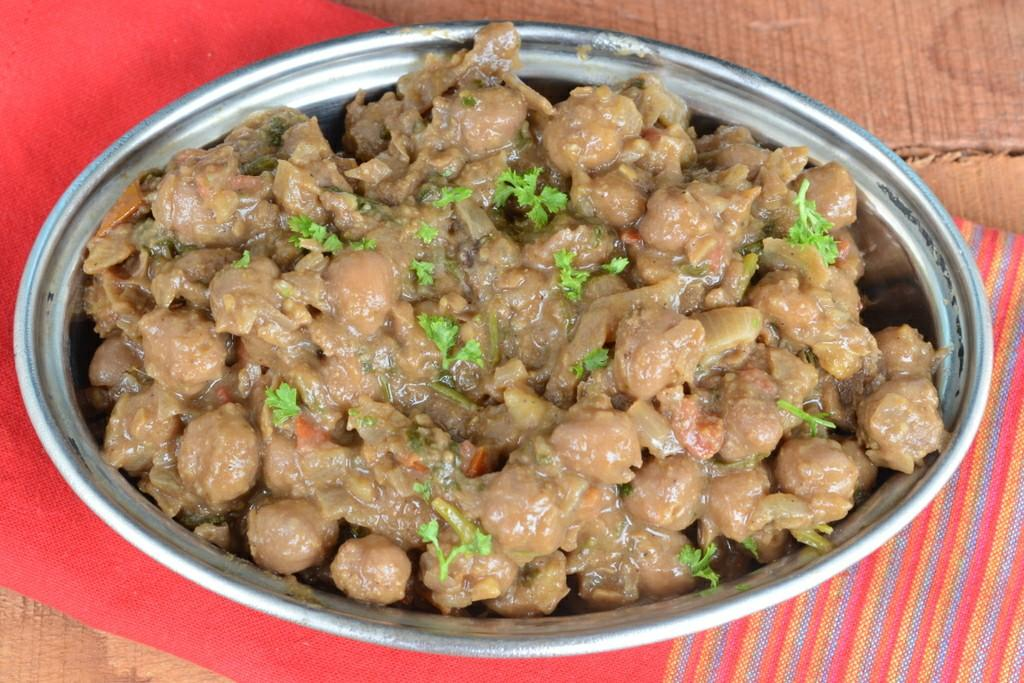Chole: (86, 17, 946, 620)
